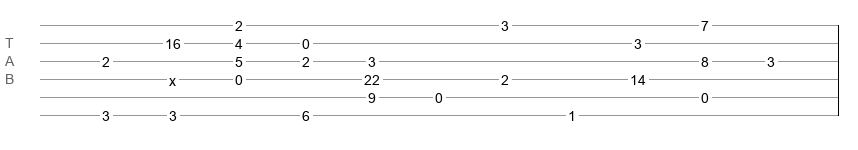0: (235, 72, 243, 82), (302, 36, 310, 46), (435, 90, 443, 100), (701, 90, 709, 100)
1: (568, 108, 576, 118)
14: (630, 72, 646, 82)
16: (165, 36, 181, 46)
2: (102, 54, 110, 64), (235, 18, 243, 28), (302, 54, 310, 64), (501, 72, 509, 82)
22: (364, 72, 380, 82)
3: (102, 108, 110, 118), (169, 108, 177, 118), (368, 54, 376, 64), (501, 18, 509, 28), (634, 36, 642, 46), (767, 54, 775, 64)
4: (235, 36, 243, 46)
5: (235, 54, 243, 64)
6: (302, 108, 310, 118)
7: (701, 18, 709, 28)
8: (701, 54, 709, 64)
9: (368, 90, 376, 100)
x: (169, 73, 176, 81)
